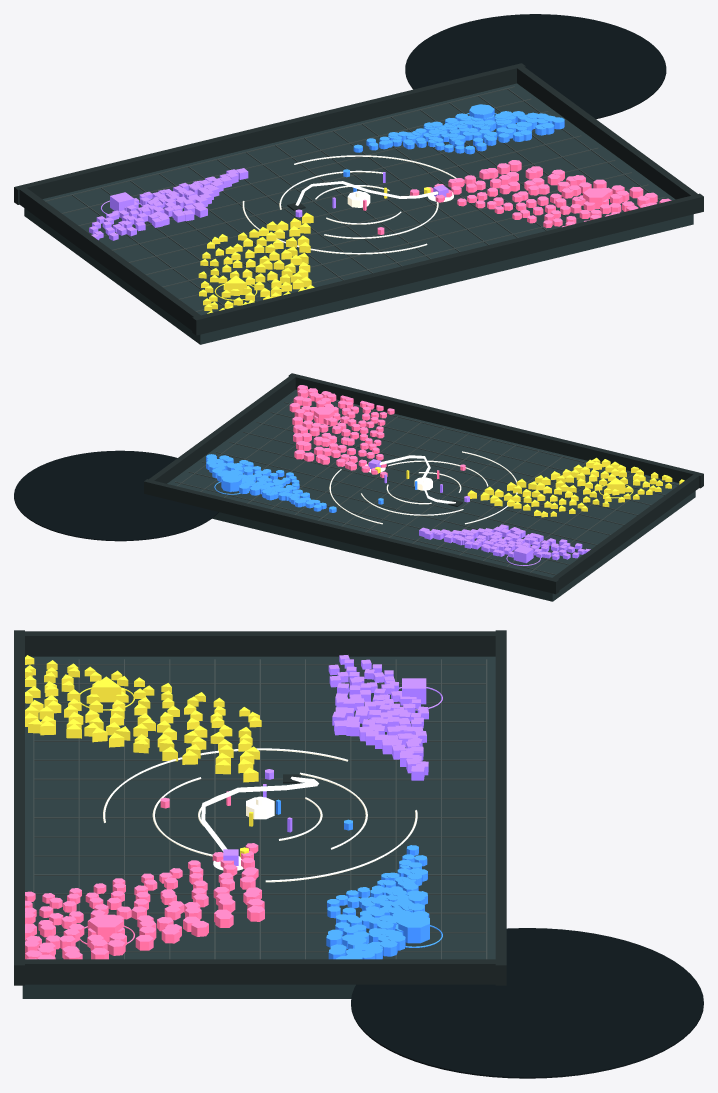
The model's file is tokenfront_arena.glb.
3 views of the same model, one above another, from view 1: azimuth 30°, elevation 25°; view 2: azimuth 150°, elevation 25°; view 3: azimuth 270°, elevation 25° (orthographic). The views are drawn at different scales.
Parts seen in each view (by area): view 1: ARENA, PlanetaryLimb, South rail, North rail, West rail, East rail, Grid Y +5, Grid Y +1, BrokenOrbitArc03, Grid Y -1, Grid Y +4, RELAY_TAPE (+2 smaller); view 2: ARENA, PlanetaryLimb, North rail, South rail, West rail, East rail, Grid Y +4, Grid Y +1, Grid Y +0, Grid Y -3, Grid Y -2, BrokenOrbitArc02 (+3 smaller); view 3: ARENA, PlanetaryLimb, East rail, West rail, North rail, South rail, Grid X -2, BrokenOrbitArc03, RELAY_TAPE, Grid X +1, Grid X +0, COBALT_RALLY (+5 smaller).
Boxes of the visible parts, bbox=[...] form: ARENA: bbox=[24, 83, 693, 344]; PlanetaryLimb: bbox=[405, 14, 666, 119]; South rail: bbox=[192, 193, 703, 335]; North rail: bbox=[14, 63, 525, 204]; West rail: bbox=[19, 188, 200, 330]; East rail: bbox=[517, 66, 697, 199]; Grid Y +5: bbox=[45, 86, 514, 201]; Grid Y +1: bbox=[112, 135, 581, 250]; BrokenOrbitArc03: bbox=[242, 155, 456, 254]; Grid Y -1: bbox=[145, 160, 615, 275]; Grid Y +4: bbox=[62, 98, 531, 213]; RELAY_TAPE: bbox=[295, 181, 438, 205]; ARENA: bbox=[167, 389, 695, 601]; PlanetaryLimb: bbox=[14, 450, 218, 541]; North rail: bbox=[144, 479, 559, 594]; South rail: bbox=[288, 373, 703, 488]; West rail: bbox=[552, 474, 699, 590]; East rail: bbox=[149, 376, 295, 483]; Grid Y +4: bbox=[175, 481, 556, 575]; Grid Y +1: bbox=[216, 451, 596, 545]; Grid Y +0: bbox=[229, 442, 610, 535]; Grid Y -3: bbox=[270, 412, 651, 505]; Grid Y -2: bbox=[256, 422, 637, 515]; BrokenOrbitArc02: bbox=[361, 460, 488, 515]; ARENA: bbox=[22, 656, 495, 998]; PlanetaryLimb: bbox=[351, 928, 703, 1078]; East rail: bbox=[25, 959, 495, 984]; West rail: bbox=[25, 631, 495, 656]; North rail: bbox=[495, 630, 506, 985]; South rail: bbox=[14, 630, 24, 985]; Grid X -2: bbox=[34, 778, 486, 780]; BrokenOrbitArc03: bbox=[103, 748, 417, 882]; RELAY_TAPE: bbox=[201, 776, 318, 851]; Grid X +1: bbox=[34, 836, 486, 837]; Grid X +0: bbox=[34, 817, 486, 818]; COBALT_RALLY: bbox=[398, 914, 429, 943].
Size of the model in its own units: 22.15 by 1.2 by 15.24.
